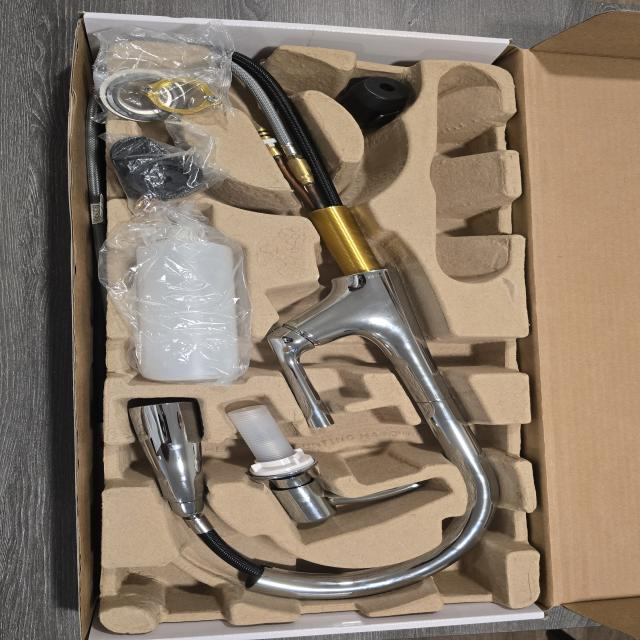1: (132, 51, 504, 601)
2: (227, 404, 424, 524)
3: (131, 206, 244, 382)
4m: (428, 65, 508, 284)
5: (336, 76, 417, 133)
6: (84, 18, 235, 127)
7: (93, 116, 231, 215)
